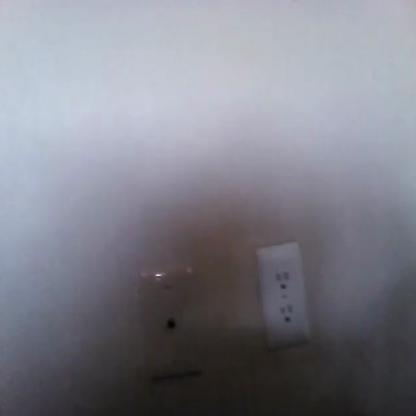OUTLET: (255, 243, 310, 347)
